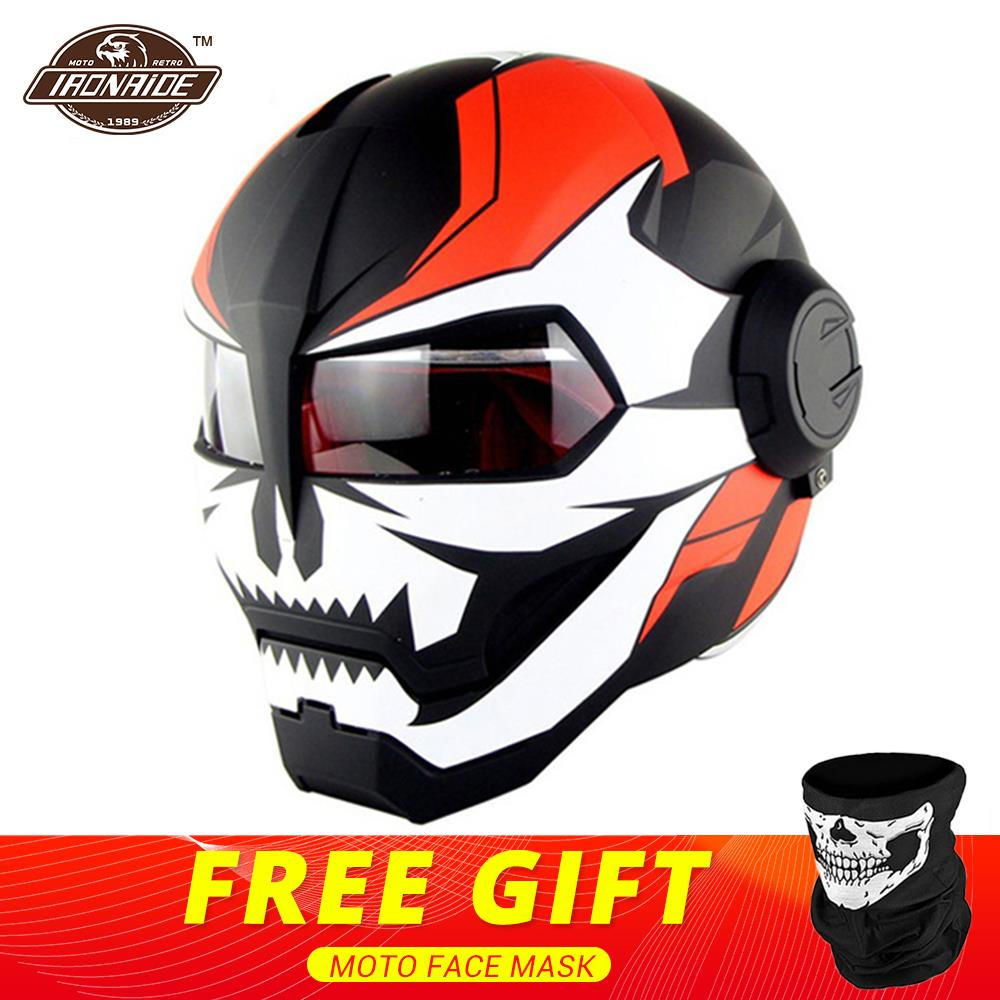with_helmet: (167, 45, 857, 817)
